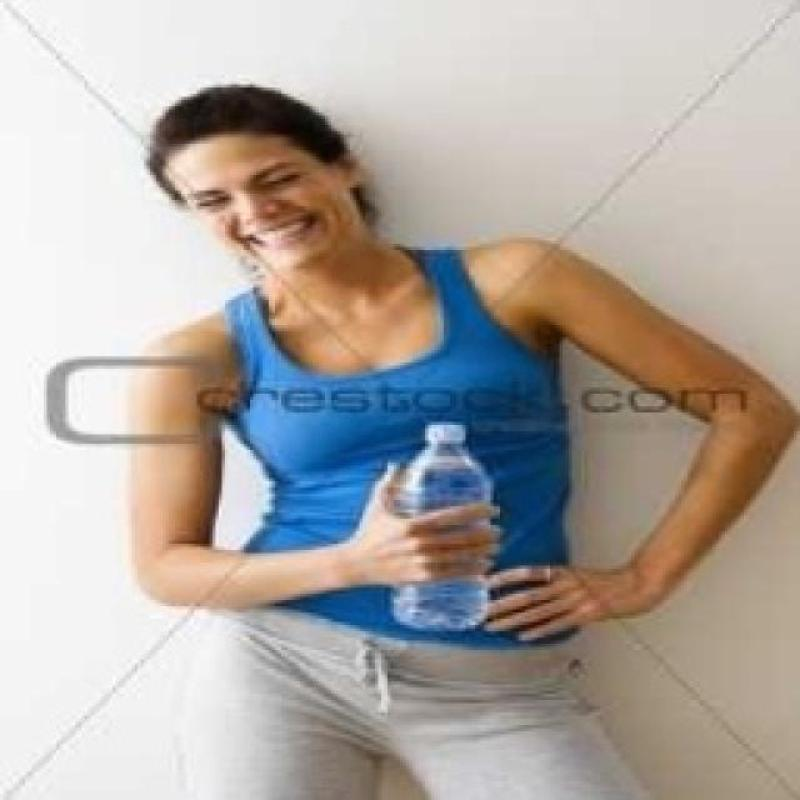botella: (390, 422, 494, 634)
